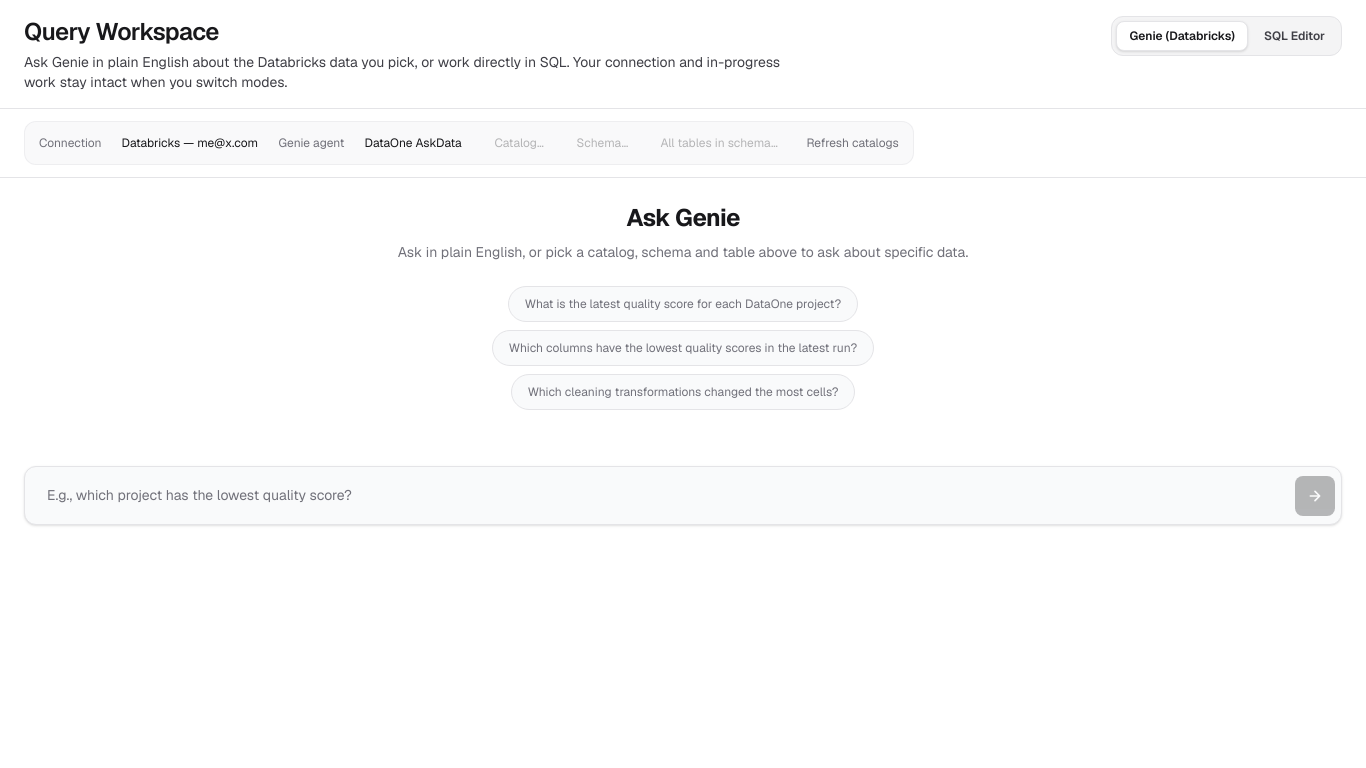
QueryWorkspaceInner › hands Genie's generated SQL to the SQL editor and switches to it without navigation
Expected: the dropdown labelled "Genie agent" shows "DataOne AskData", top-left (352, 129), bottom-right (474, 157)
Type "how many widgets?" into the field named "Ask Genie a question about your data". click: point(663, 496)
box: top-left (31, 473), bottom-right (1295, 518)
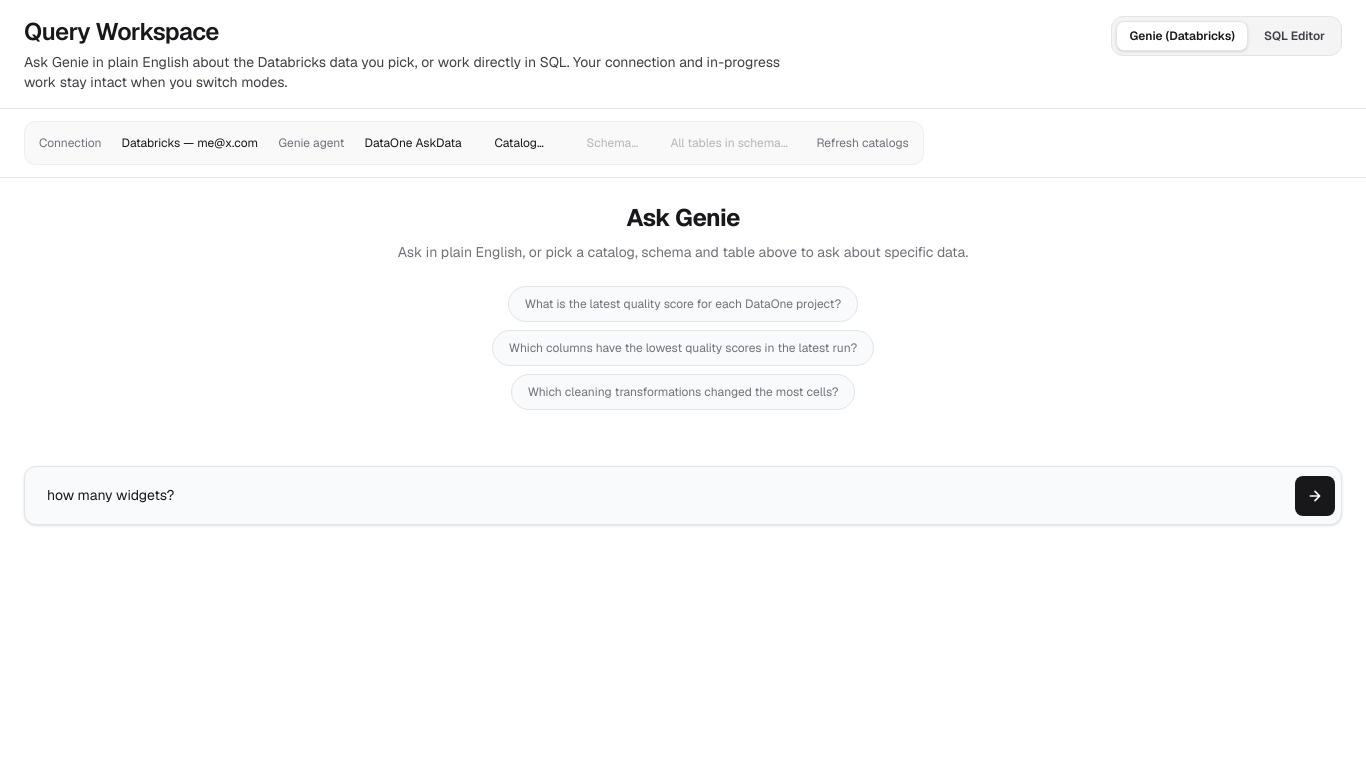
Click the button titled "Ask". click: point(1315, 496)
box: top-left (1295, 476), bottom-right (1335, 516)
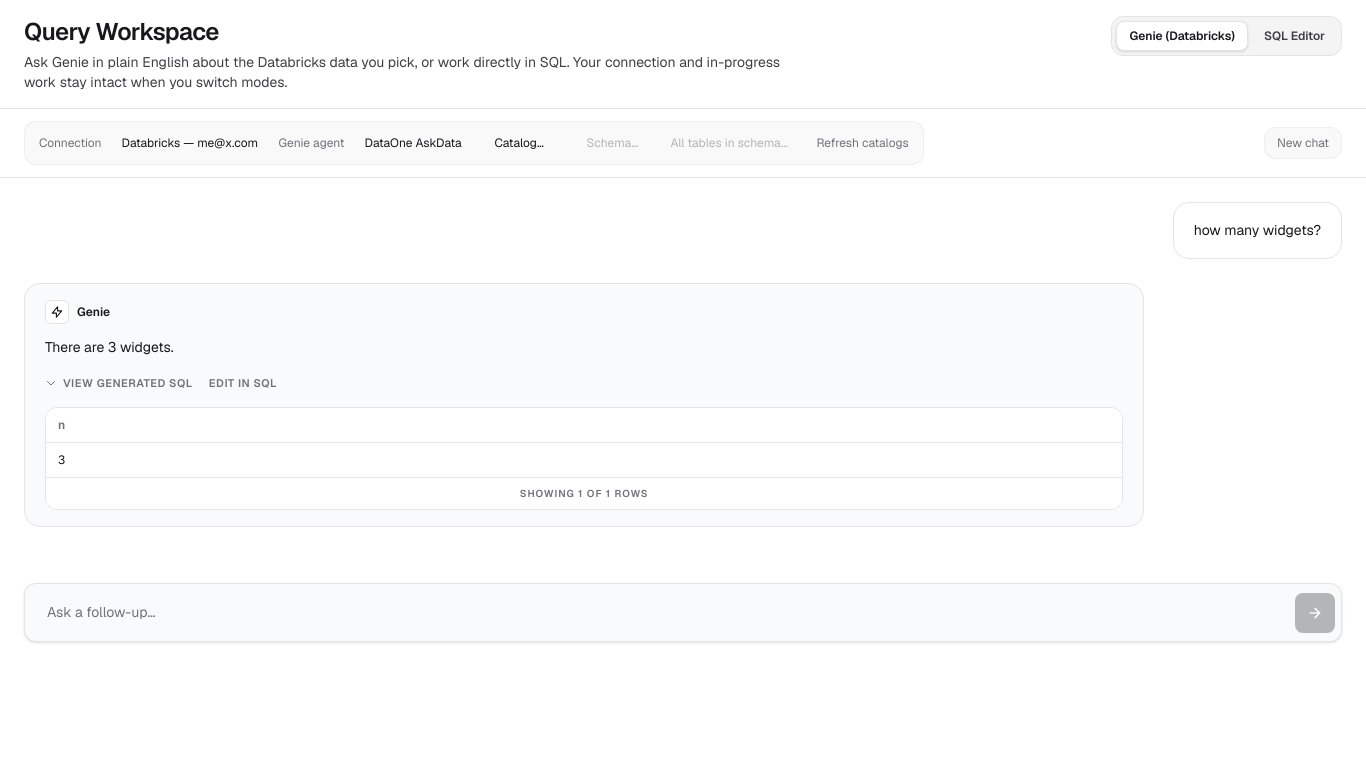
Result: the text "There are 3 widgets." is shown at top-left (45, 338), bottom-right (174, 356)
Click the button "Edit in SQL". click: point(243, 383)
box: top-left (209, 374), bottom-right (277, 391)
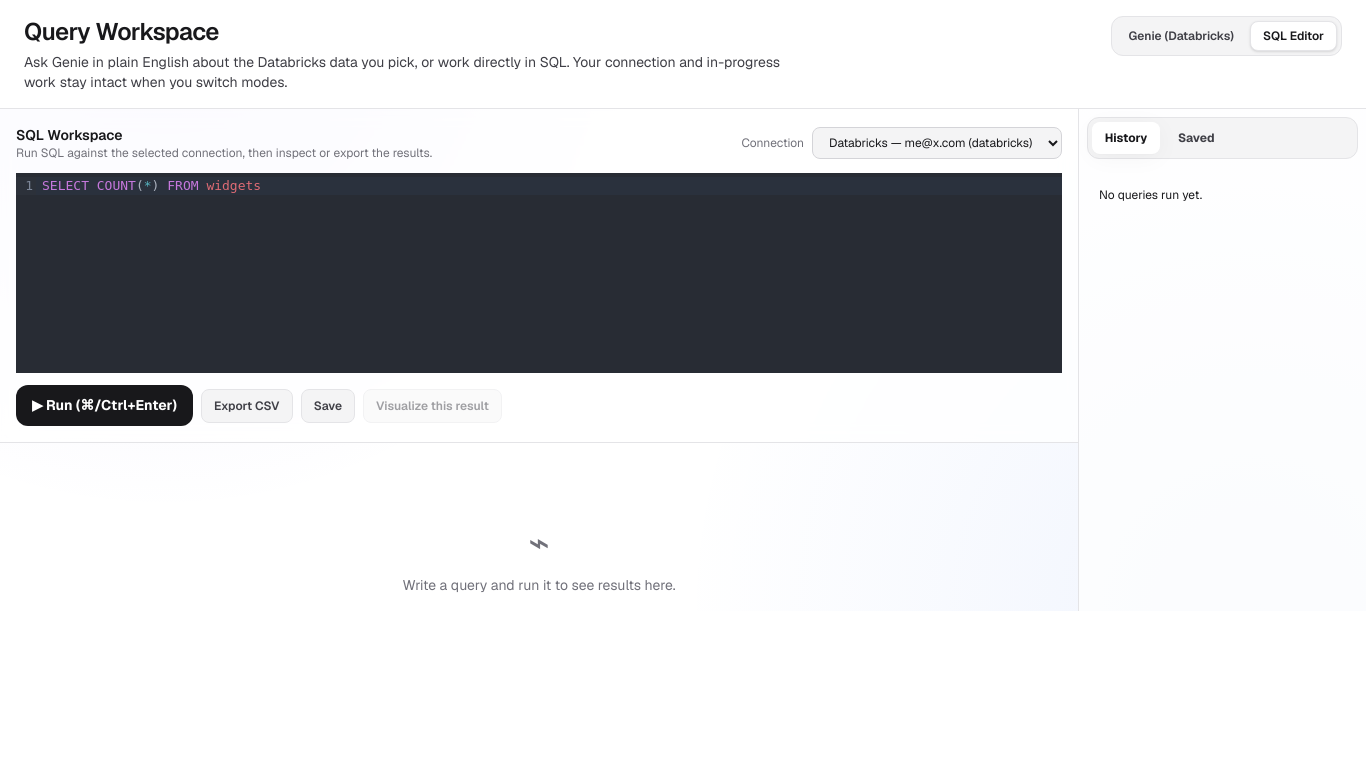
Result: the field with class "cm-content" reads "SELECT COUNT(*) FROM widgets" at top-left (36, 177), bottom-right (1062, 195)
Result: the heading "SQL Workspace" is shown at top-left (16, 126), bottom-right (123, 144)
